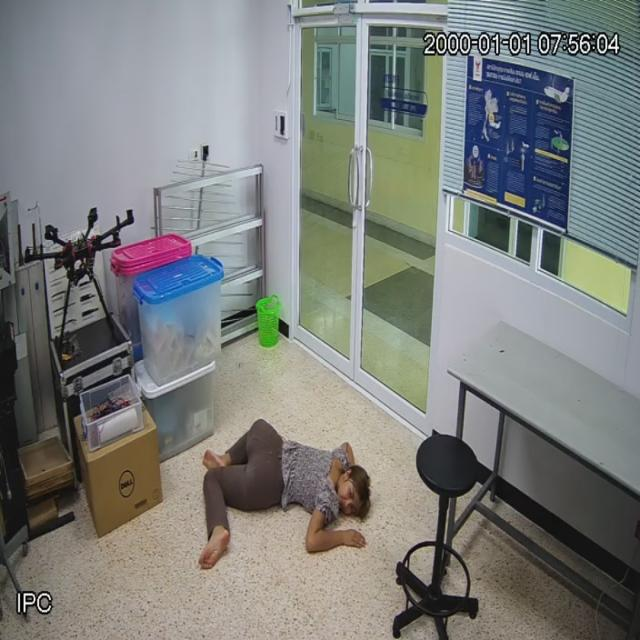fall: (203, 419, 371, 567)
